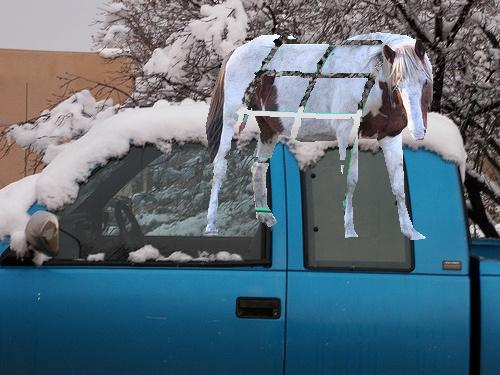tampered: (206, 33, 433, 240)
